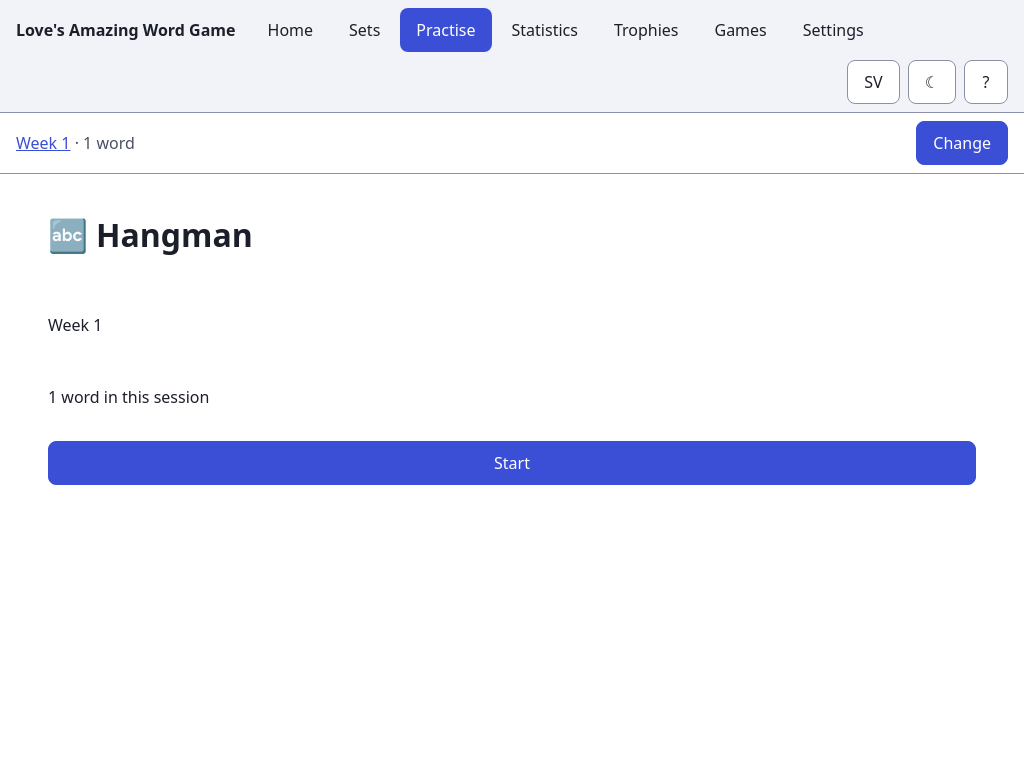
hangman mode › NH-9: shows the prompt, blanks for the answer and the wrong guesses left
This screenshot has width=1024, height=768.
Click the button "Start": (512, 463) [48, 441, 976, 485]
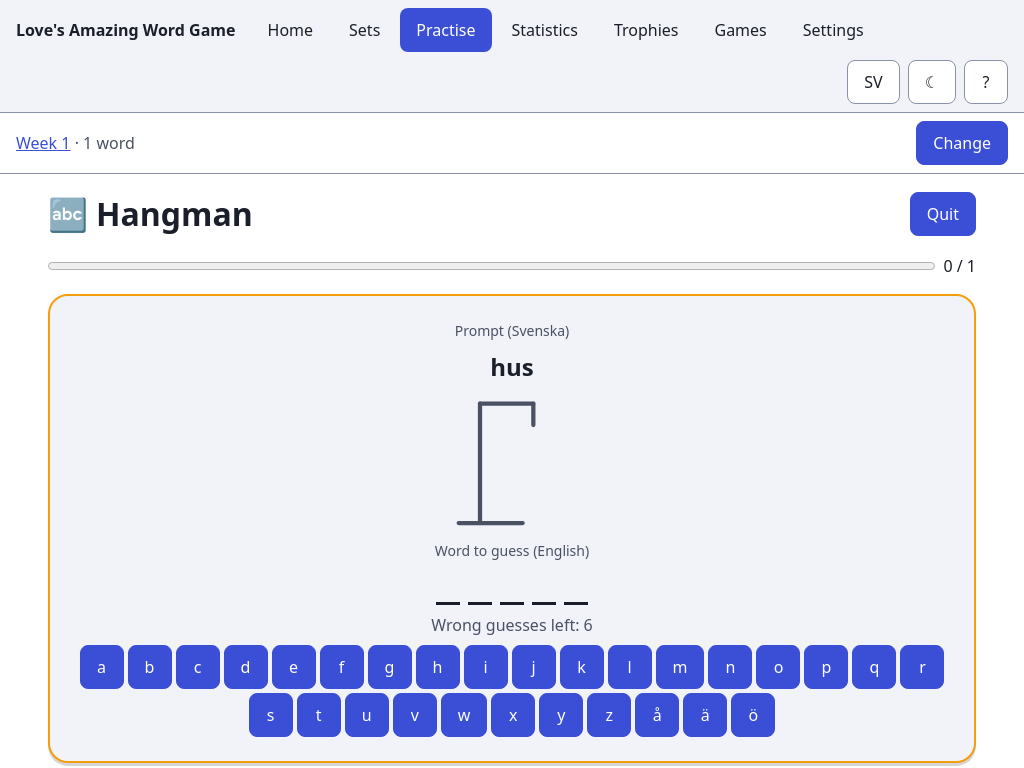
Expected: the text "Prompt (Svenska)" is shown, [455, 320, 569, 341]
Expected: the text "hus" is shown, [490, 349, 534, 385]
Expected: the picture named "Word: _____" is shown, [436, 569, 588, 605]
